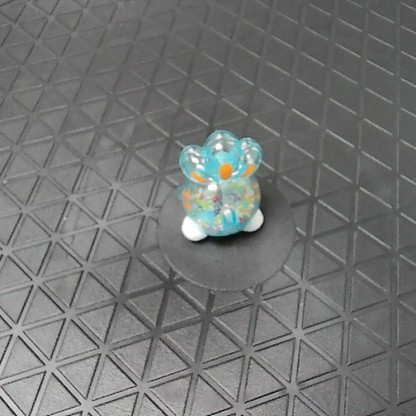bluefish: (173, 127, 265, 243)
